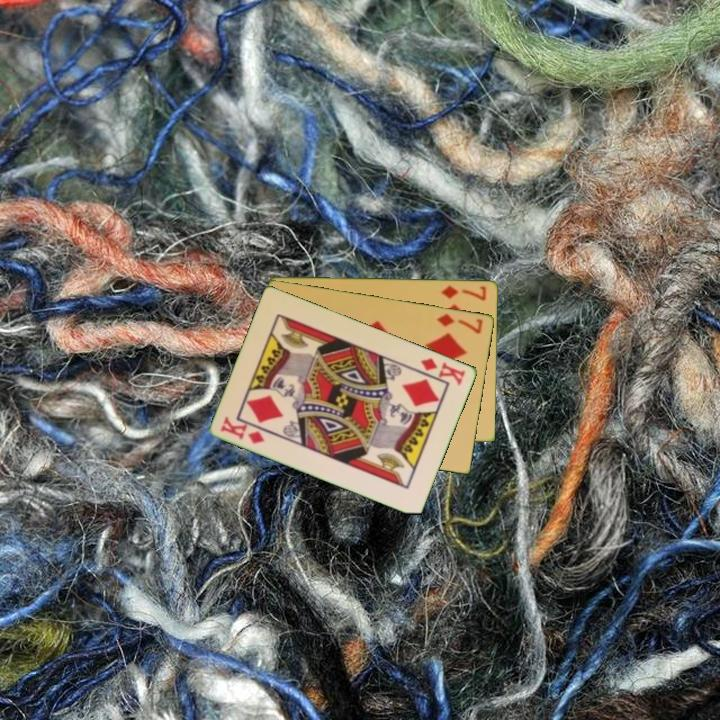7d: (434, 310, 486, 336), (438, 282, 489, 303)
Kd: (417, 354, 469, 388), (217, 413, 268, 447)
